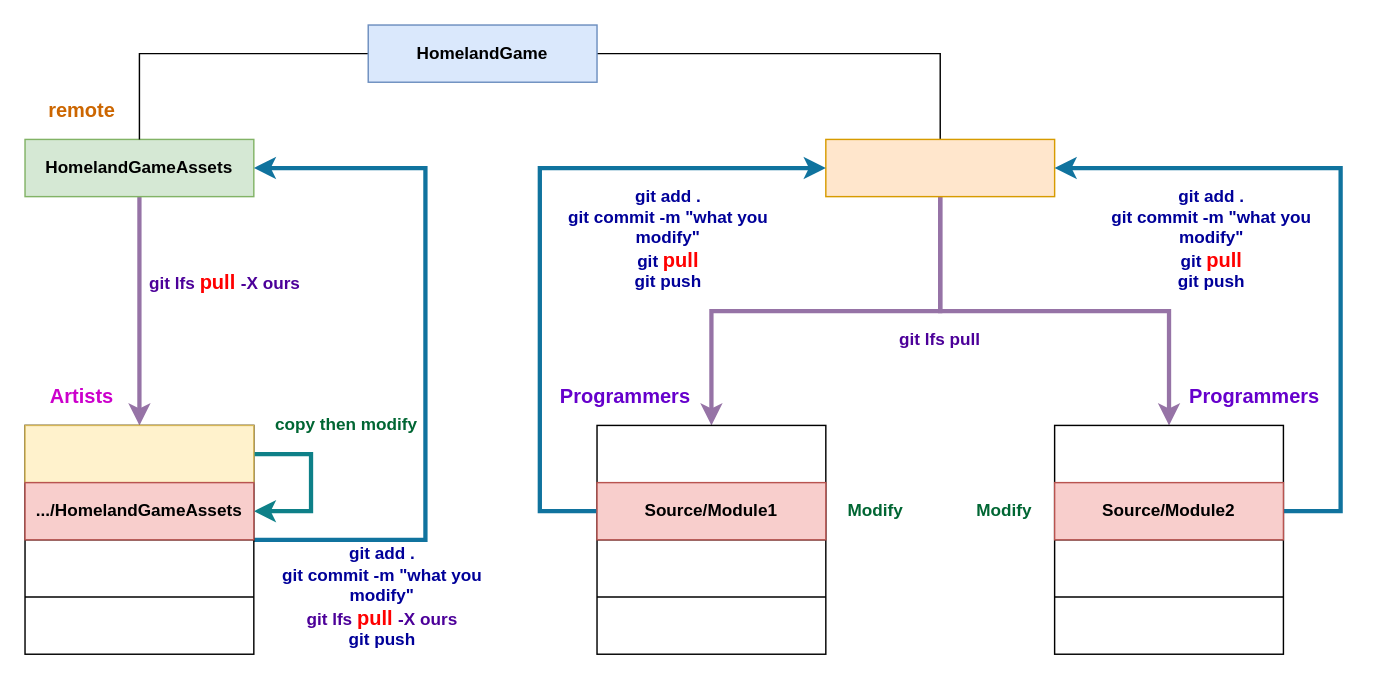
The diagram is 1379 pixels wide and 679 high, and some of its shapes have lost their labels. Here are the shapes that lost their labels. From the top down, the centre of each, then its label:
At (939,167): "Source".
At (139,453): "Template".
